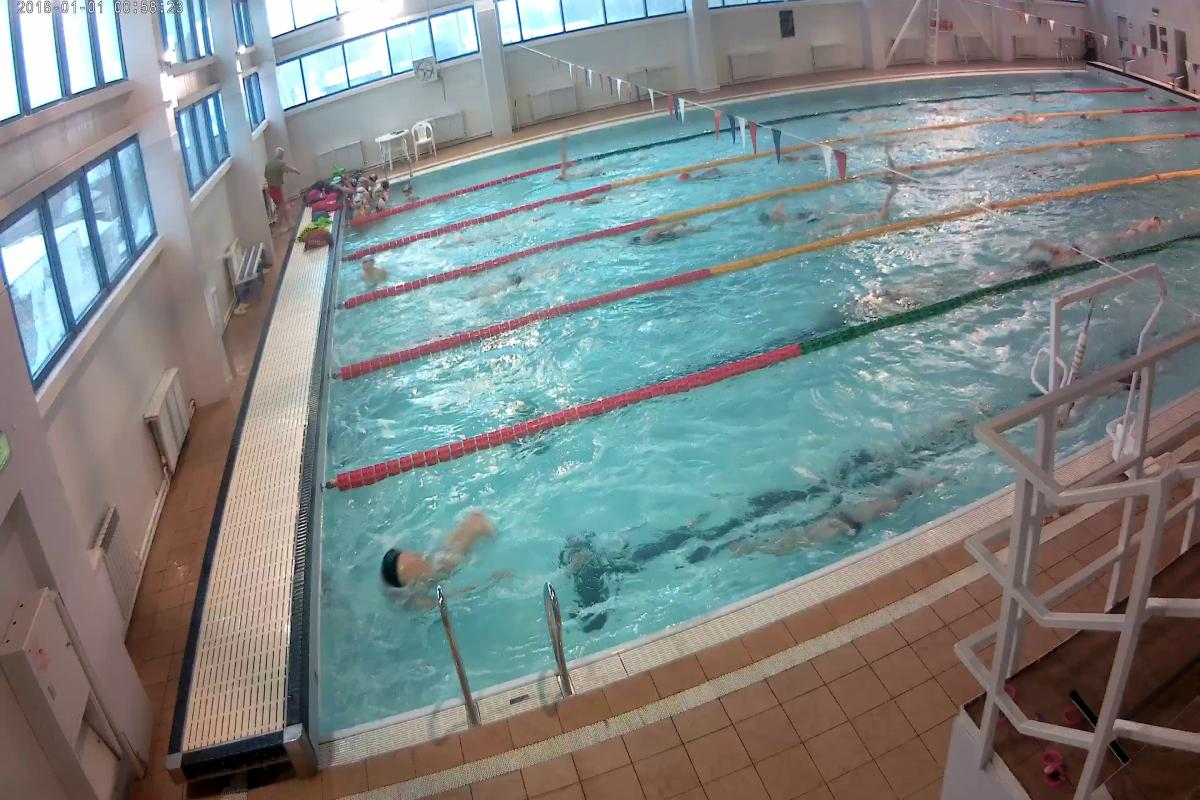swimmer: (349, 528, 483, 581), (637, 220, 711, 245)
